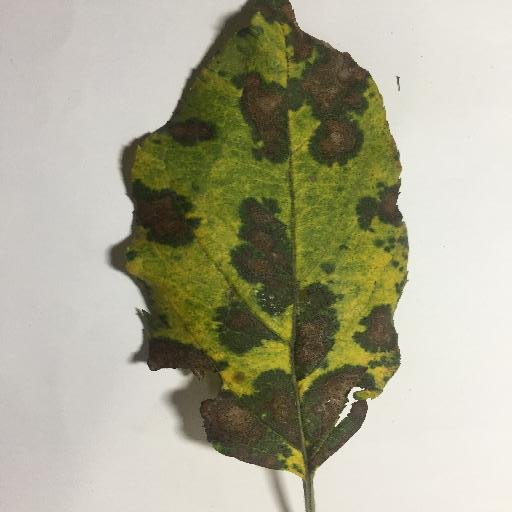Brown_Spot: (235, 49, 373, 166), (208, 385, 358, 473), (231, 206, 299, 313), (131, 184, 202, 247), (152, 338, 221, 387), (214, 299, 275, 352), (358, 181, 410, 234), (299, 287, 329, 373), (281, 8, 311, 61), (172, 118, 224, 145), (362, 309, 393, 343)
